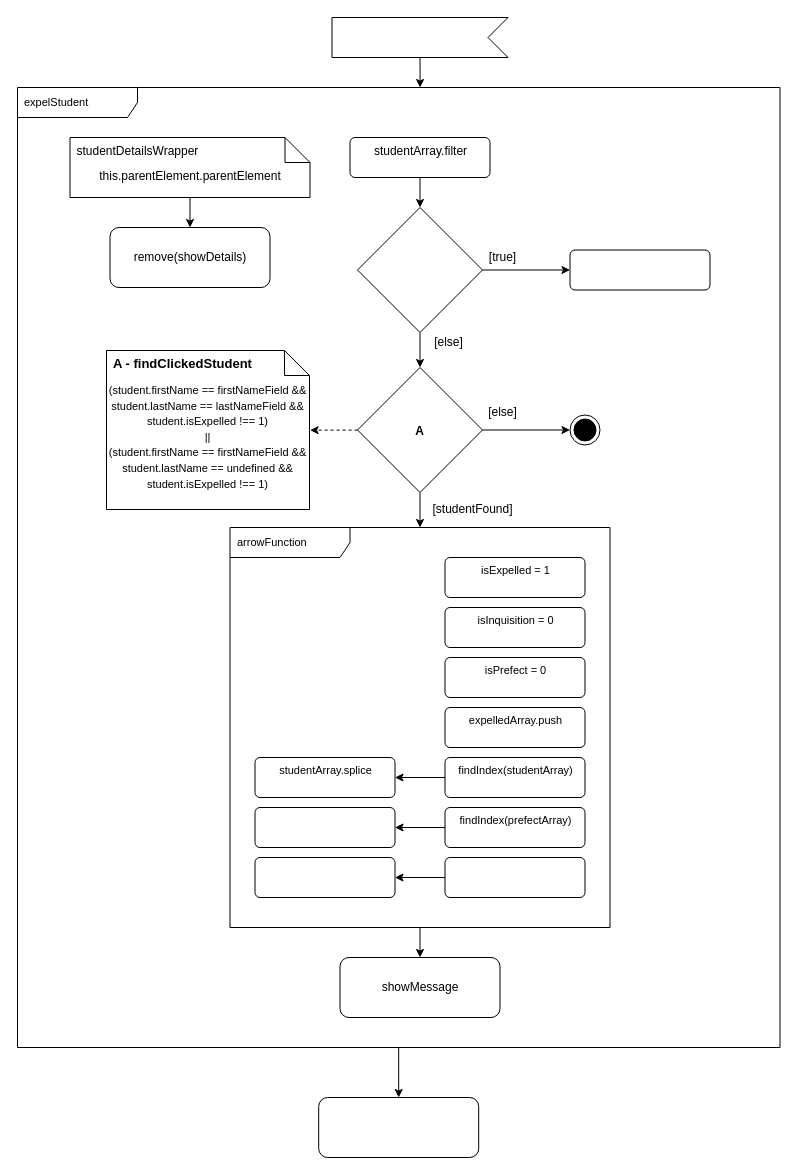
Image size: 798x1175. Some labels were removed from this diagram. Each missing label, with the box of its shape:
click eventListener: (331, 16, 508, 58)
findIndex(inquisitorArray): (444, 856, 585, 898)
inquisitorArray.splice: (254, 856, 395, 898)
prefectArray.splice: (254, 806, 395, 848)
showMessages: (569, 249, 710, 290)
showStudents: (318, 1096, 479, 1158)
student.firstName == Fryderyk && hackerMode == 1: (356, 206, 482, 332)
